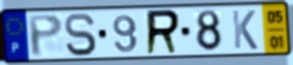8: (194, 8, 224, 54)
9: (111, 13, 138, 53)
K: (230, 9, 260, 51)
P: (26, 13, 65, 59)
R: (144, 8, 182, 57)
S: (63, 11, 99, 58)
